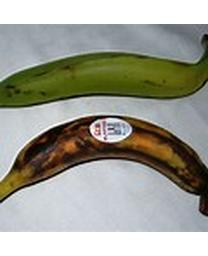banana: (1, 115, 207, 207), (2, 35, 207, 105)
